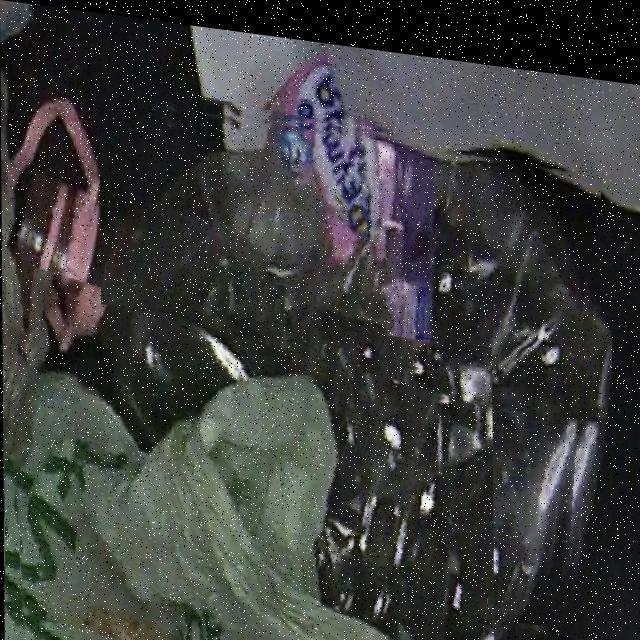plasticbottle: (99, 83, 596, 617)
plasticcover: (2, 282, 494, 640)
